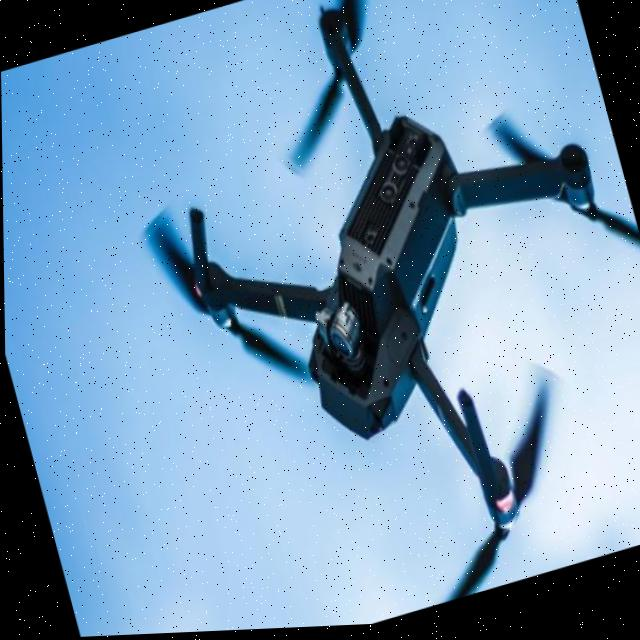drones: (87, 0, 640, 637)
